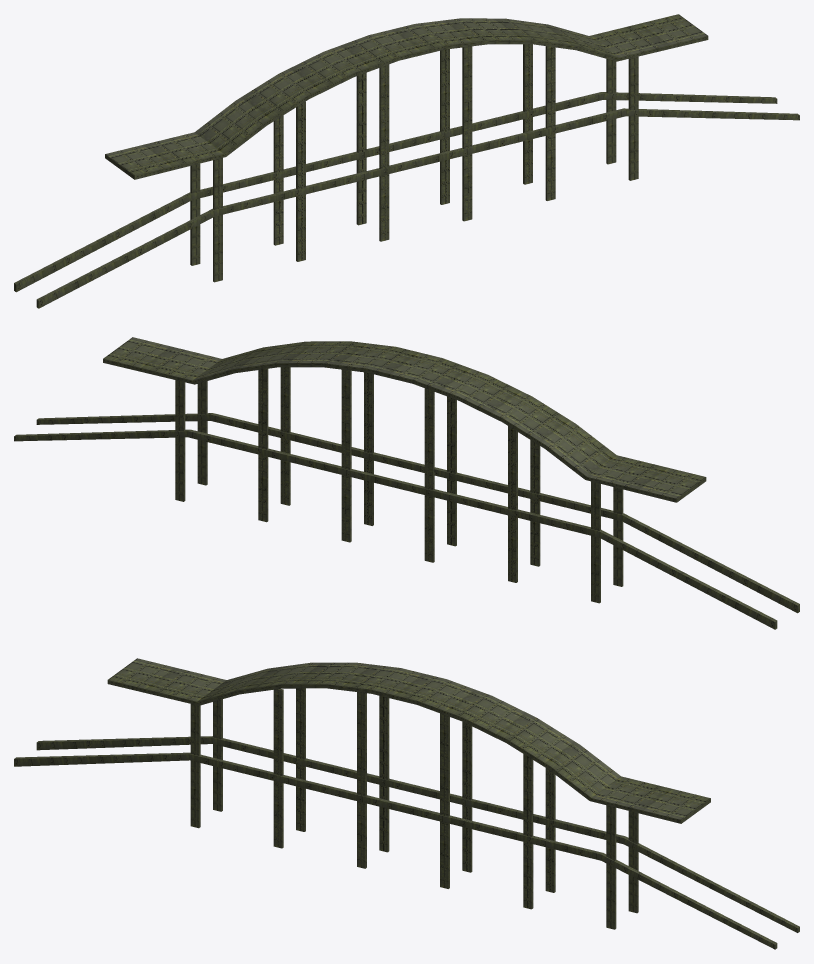
The model's file is bridge_metal.fbx.
3 views of the same model, one above another, from view 1: azimuth 30°, elevation 25°; view 2: azimuth 150°, elevation 25°; view 3: azimuth 330°, elevation 25° (orthographic).
Parts seen in each view (by area): view 1: bridge_metal; view 2: bridge_metal; view 3: bridge_metal.
Part boxes in pixels (<box>): bridge_metal: <box>14,14,799,308</box>; bridge_metal: <box>14,337,799,629</box>; bridge_metal: <box>14,658,799,949</box>.
Bounding box in the file's own units: 332 × 75.87 × 22.37.
